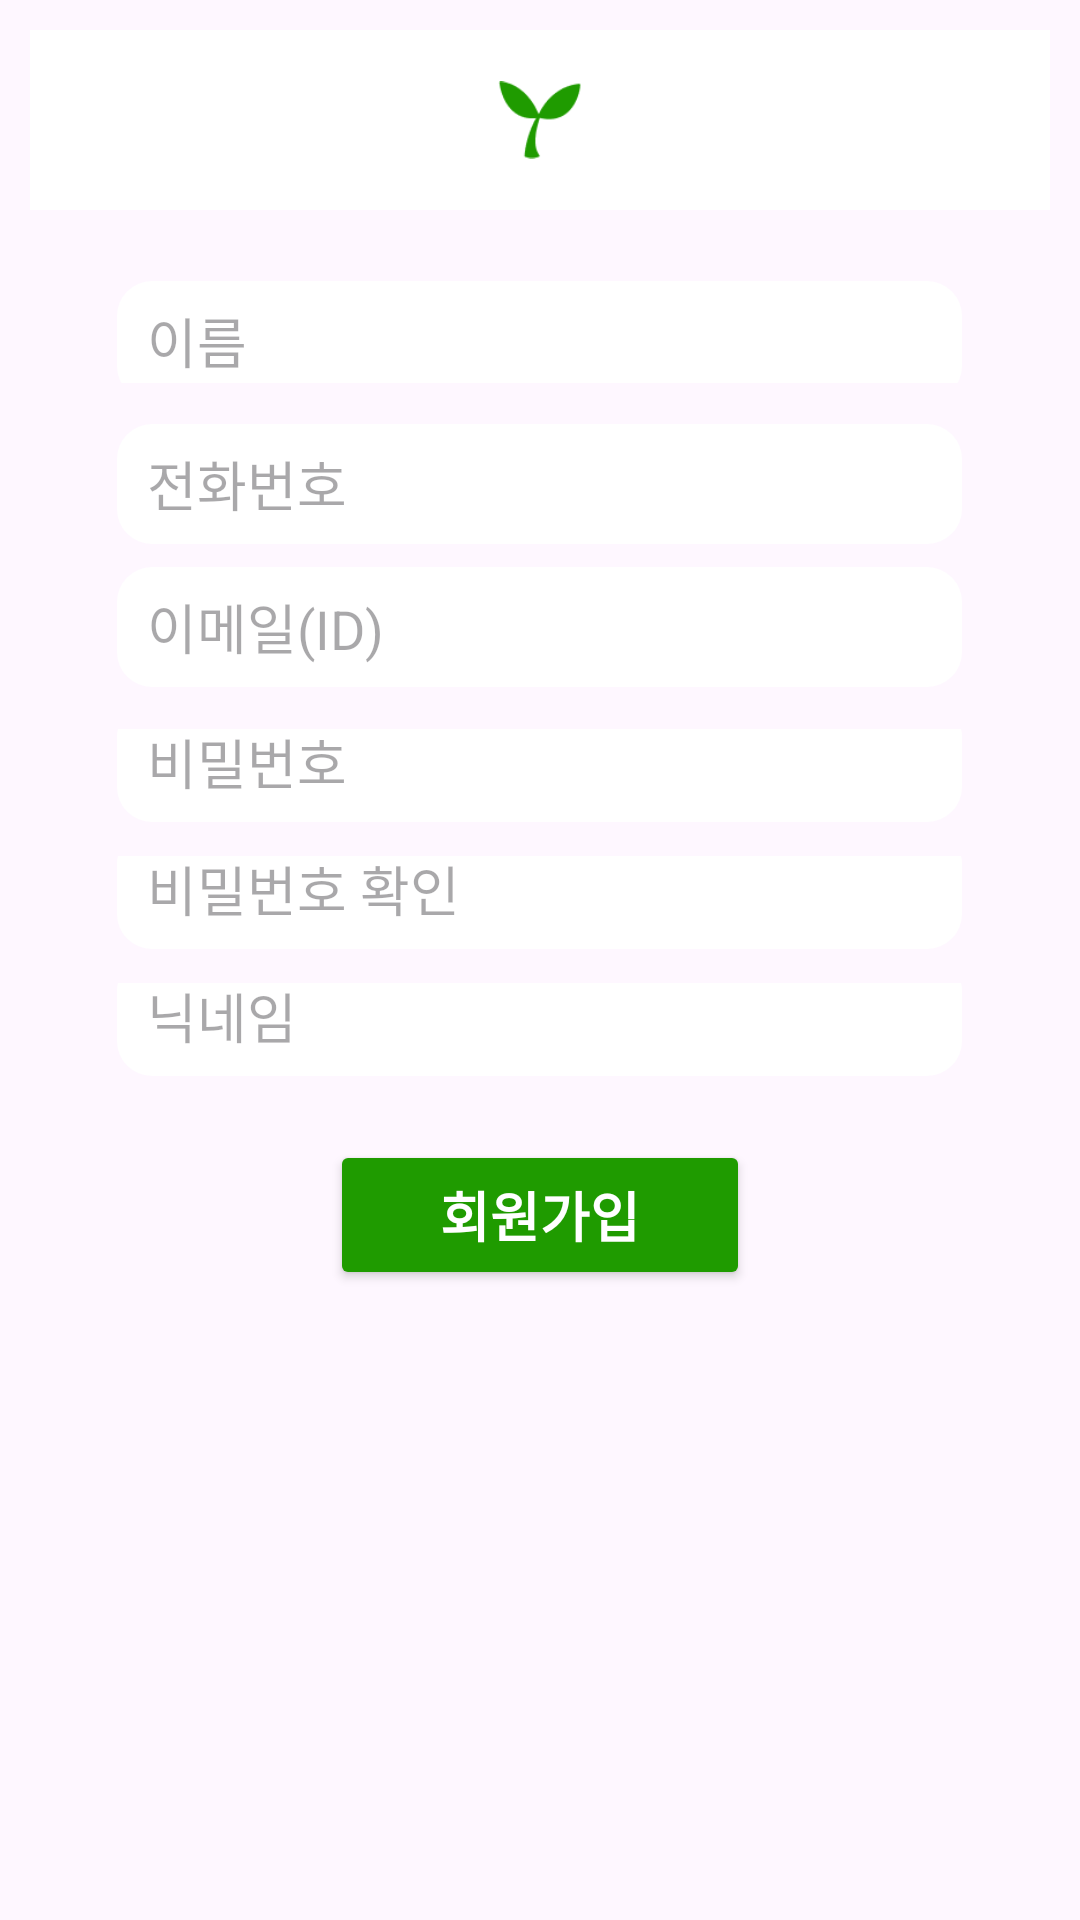

Screen size 1080w x 1920h. Icon name, then its center in pixels as (x=x, y=y):
plant: (x=540, y=120)
